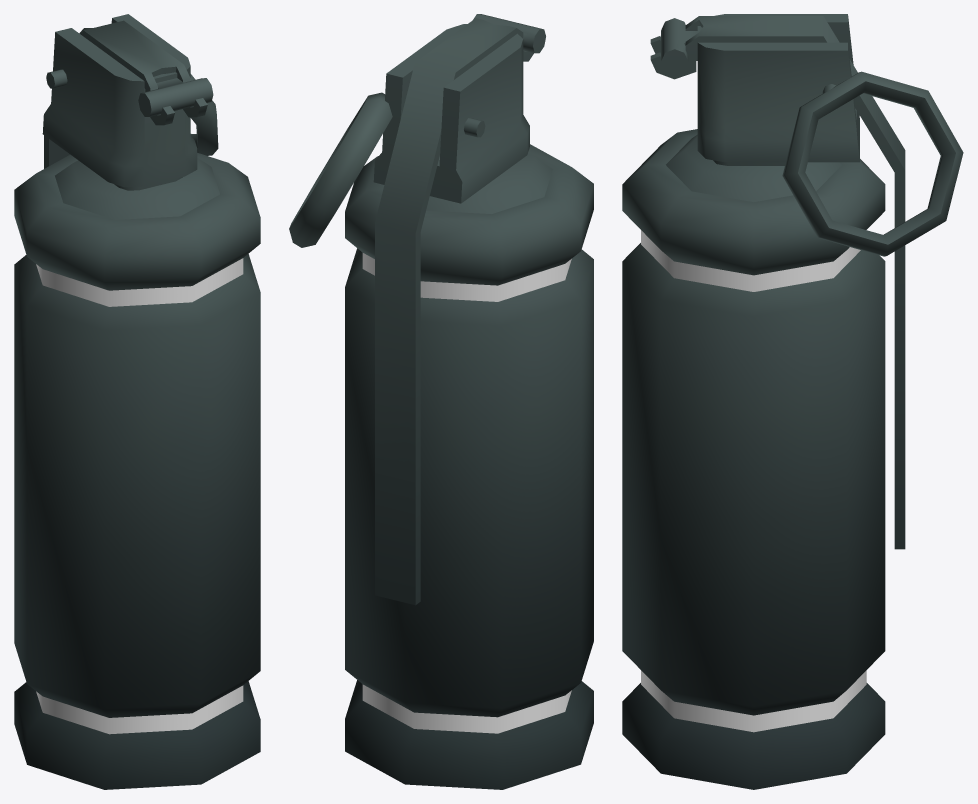
File: Flashbang.fbx
The picture shows the model from 3 angles, left to right: view 1: azimuth 30°, elevation 25°; view 2: azimuth 150°, elevation 25°; view 3: azimuth 270°, elevation 25°; orthographic projection. The views are drawn at different scales.
Visible parts, largest first — view 1: Flashbang; view 2: Flashbang; view 3: Flashbang.
Boxes of the visible parts, left/top/right/bottom form: Flashbang: left=14, top=14, right=260, bottom=789; Flashbang: left=289, top=14, right=593, bottom=789; Flashbang: left=622, top=14, right=963, bottom=789.
Bounding box in the file's own units: 25.62 × 74.36 × 32.45.
